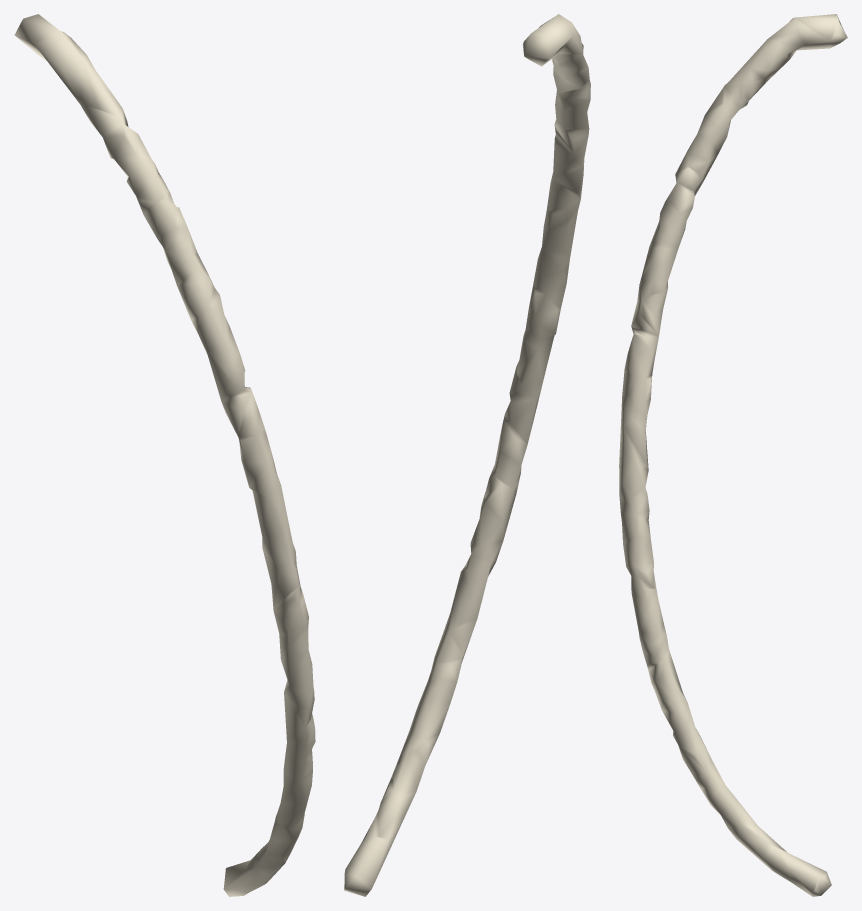
Rendered from rib_5_l.glb.
The picture shows the model from 3 angles, left to right: view 1: azimuth 30°, elevation 25°; view 2: azimuth 150°, elevation 25°; view 3: azimuth 270°, elevation 25°; orthographic projection. The views are drawn at different scales.
Parts seen in each view (by area): view 1: geometry_0; view 2: geometry_0; view 3: geometry_0.
Boxes of the visible parts, left/top/right/bottom form: geometry_0: left=14, top=14, right=315, bottom=896; geometry_0: left=344, top=14, right=590, bottom=896; geometry_0: left=619, top=14, right=847, bottom=896.
Bounding box in the file's own units: 0.3271 × 1.29 × 0.3347.
